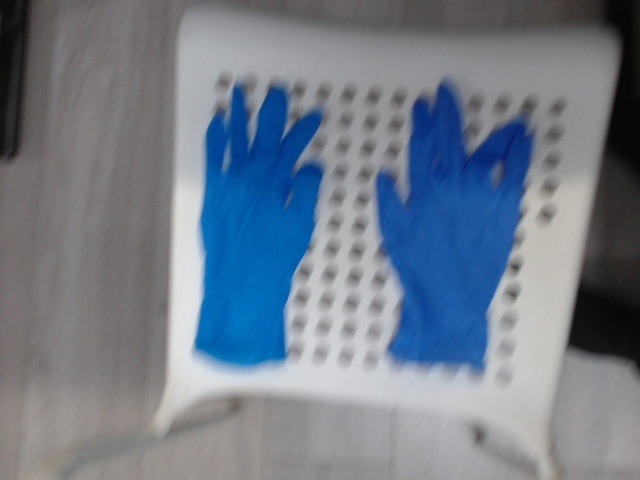medical_glove: (378, 83, 530, 365), (195, 84, 321, 360)
